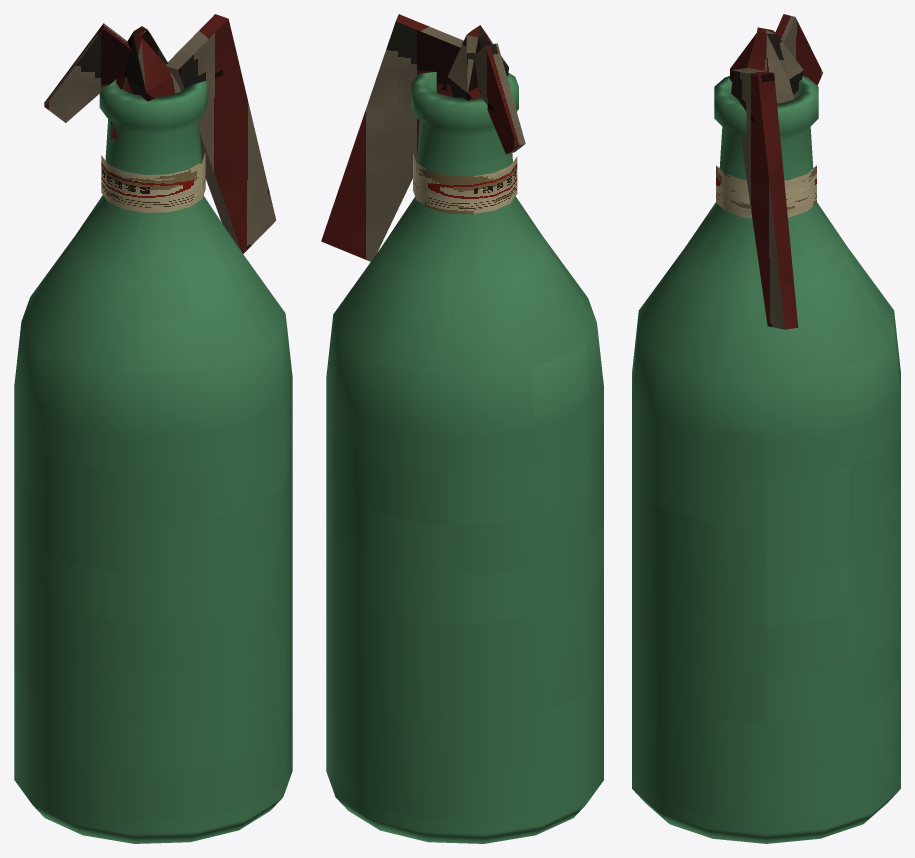
The model's file is item_bottle.glb.
3 renders of one model, left to right at view 1: azimuth 30°, elevation 25°; view 2: azimuth 150°, elevation 25°; view 3: azimuth 270°, elevation 25°, orthographic.
Visible parts, largest first — view 1: bottle; view 2: bottle; view 3: bottle.
Part boxes in pixels (x1=…): bottle: x1=14, y1=14, x2=292, y2=843; bottle: x1=321, y1=14, x2=603, y2=843; bottle: x1=632, y1=14, x2=900, y2=843.
Bounding box in the file's own units: 0.0839 × 0.2429 × 0.078.
Materials: 3 (3 with a texture image).
